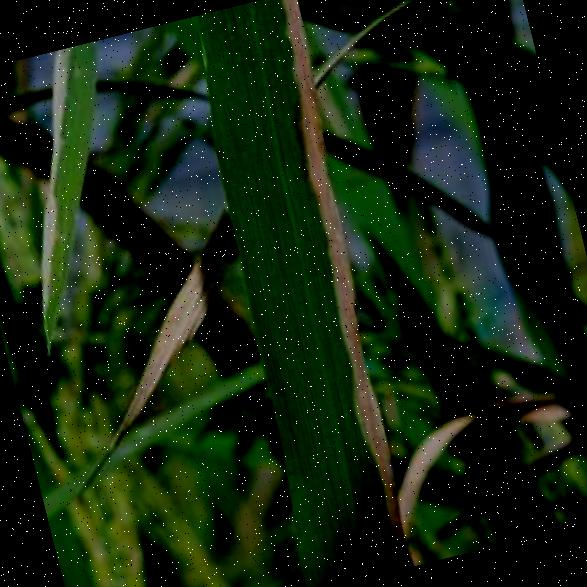Bacteria_Leaf_Blight: (173, 0, 425, 587), (0, 135, 112, 352)
